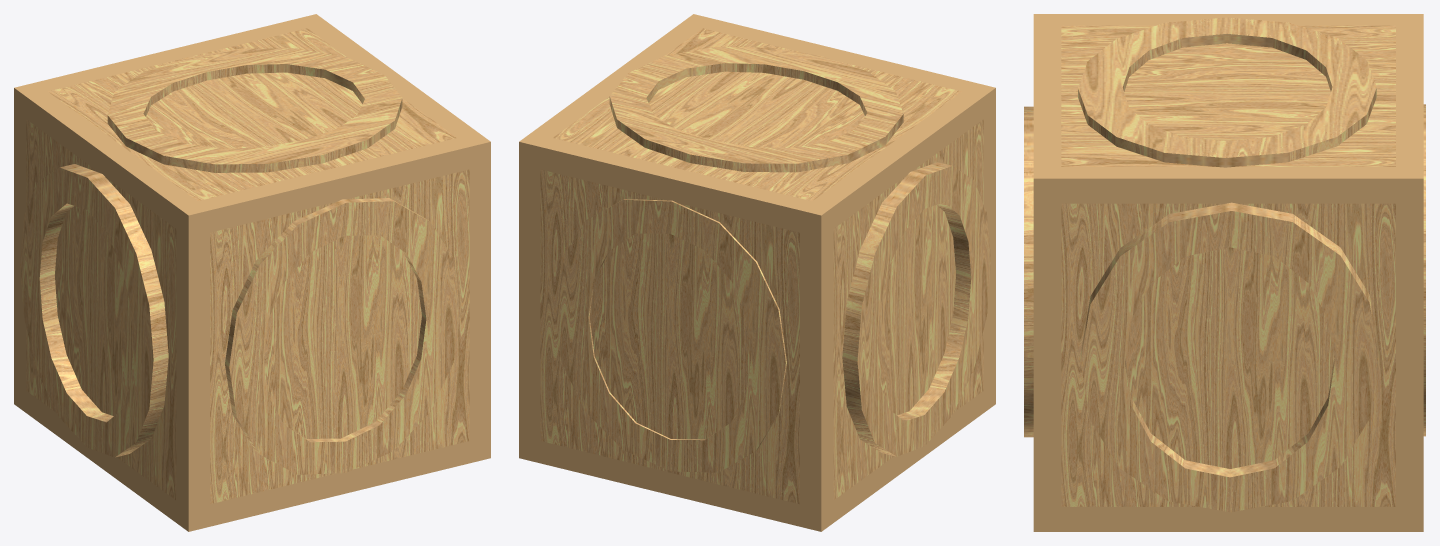
The model's file is block-o.fbx.
The picture shows the model from 3 angles, left to right: view 1: azimuth 30°, elevation 25°; view 2: azimuth 150°, elevation 25°; view 3: azimuth 270°, elevation 25°; orthographic projection. The views are drawn at different scales.
Parts seen in each view (by area): view 1: Box, FRONT, LEFT, TOP; view 2: Box, BACK, LEFT, TOP; view 3: Box, RIGHT, TOP, FRONT, BACK.
Boxes of the visible parts, bbox=[...] form: Box: bbox=[14, 14, 490, 531]; FRONT: bbox=[225, 198, 460, 474]; LEFT: bbox=[20, 164, 168, 457]; TOP: bbox=[107, 48, 402, 172]; Box: bbox=[519, 14, 995, 531]; BACK: bbox=[554, 199, 786, 472]; LEFT: bbox=[842, 162, 991, 456]; TOP: bbox=[609, 47, 903, 172]; Box: bbox=[1033, 14, 1423, 531]; RIGHT: bbox=[1080, 202, 1379, 512]; TOP: bbox=[1078, 17, 1376, 167]; FRONT: bbox=[1024, 106, 1033, 437]; BACK: bbox=[1423, 104, 1425, 436].
Bounding box in the file's own units: 1.1 × 1.04 × 1.03.
Materials: 2 (2 with a texture image).
